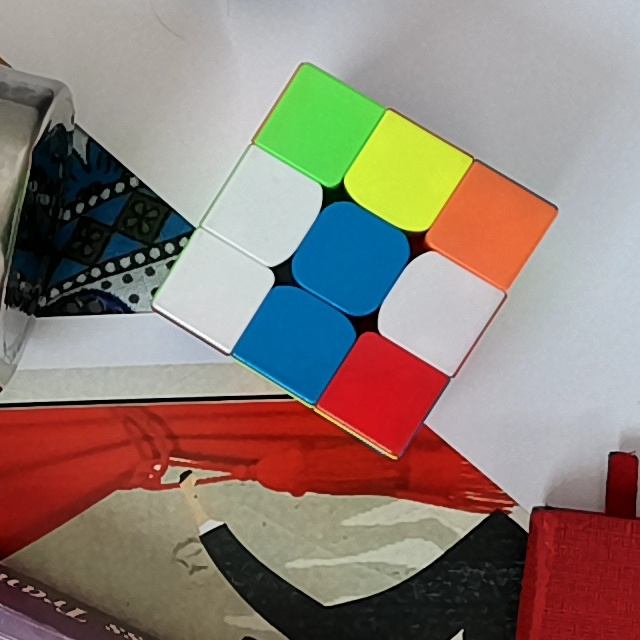tile: (315, 228, 385, 294), (402, 274, 469, 342), (370, 142, 439, 208), (348, 360, 417, 426), (262, 305, 331, 371), (181, 255, 248, 321), (454, 193, 522, 257), (232, 179, 297, 243), (284, 96, 351, 158)
